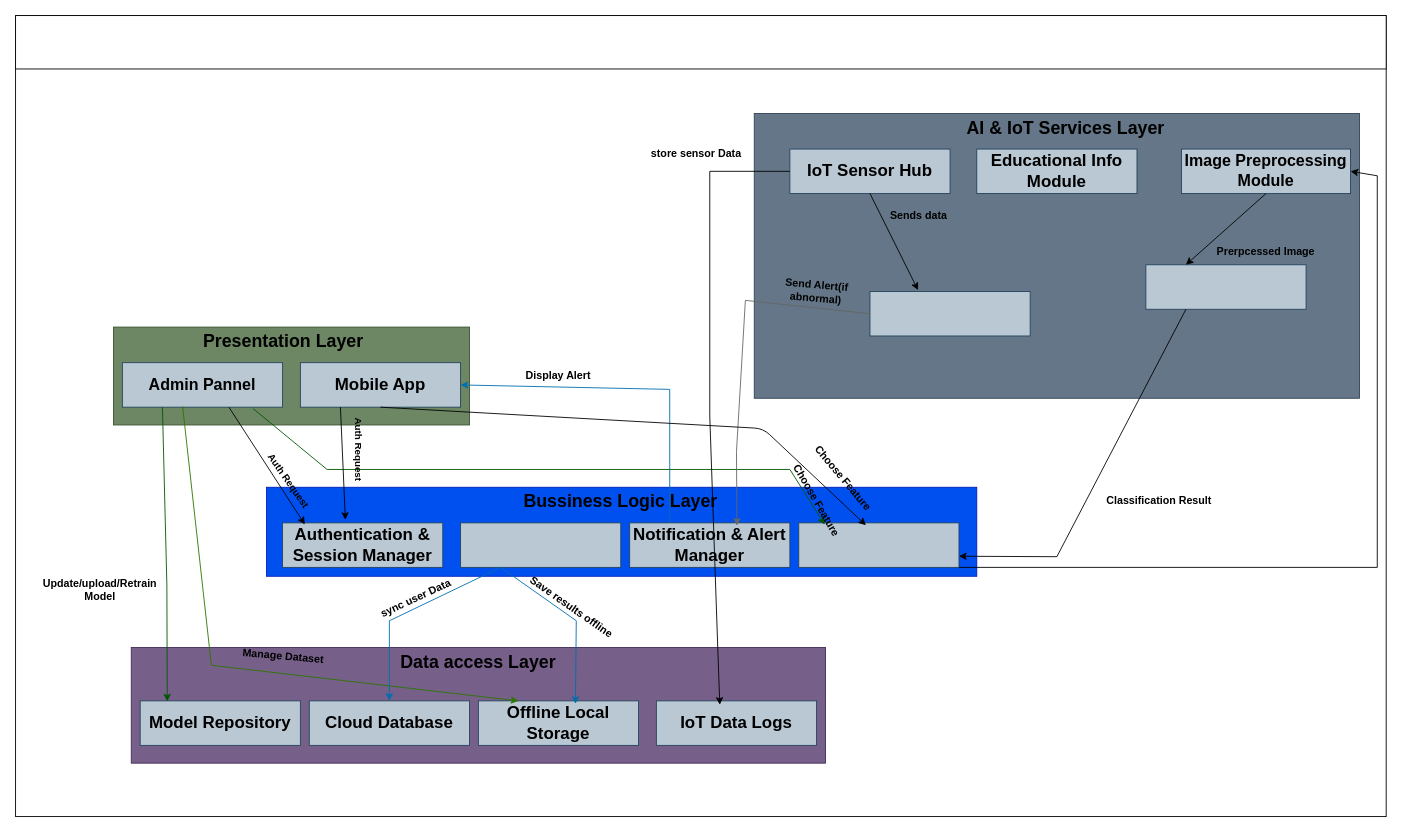
Some shapes in this 1402 by 832 pixel diagram are drawn without their labels. The shapes that lost their labels are listed below. From the top down, each one's centre as x and y in pixels, then its label:
At (700,42): "Architecture Diagram".
At (1225,286): "Resnet-18 Mashroom Classifier".
At (949,313): "Environment Analyzer".
At (540,544): "Data Sync Controller".
At (878,544): "Feature Controller".
